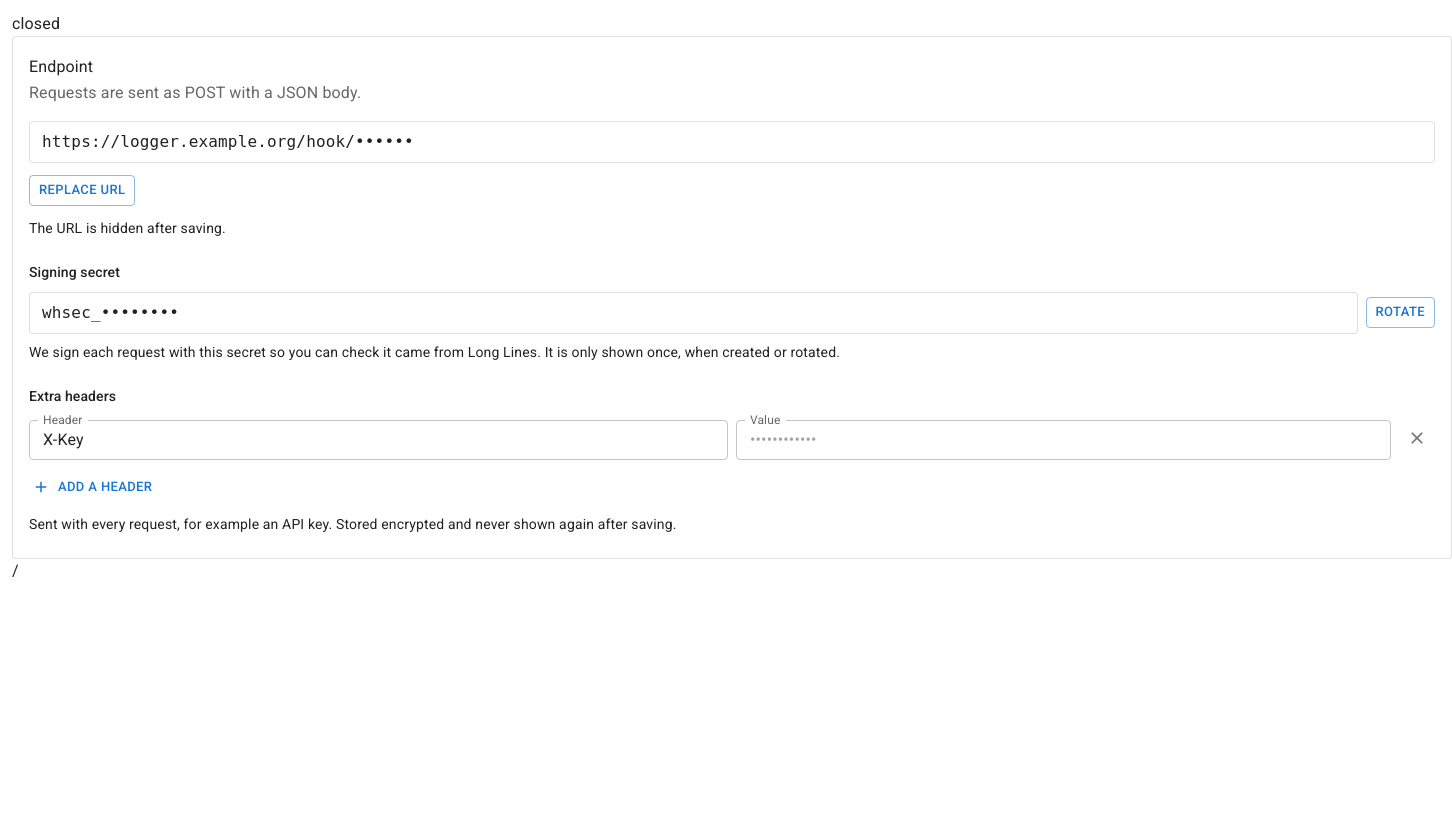
Test: extra headers › shows a saved value masked, keeps it unless typed, and wants one when renamed
This screenshot has width=1452, height=822.
Expected: the field labelled "Value" is empty, [736,420,1391,460]
Expected: the text "header a value" is not shown
Clear the field labelled "Header": (378, 440) [29,420,728,460]
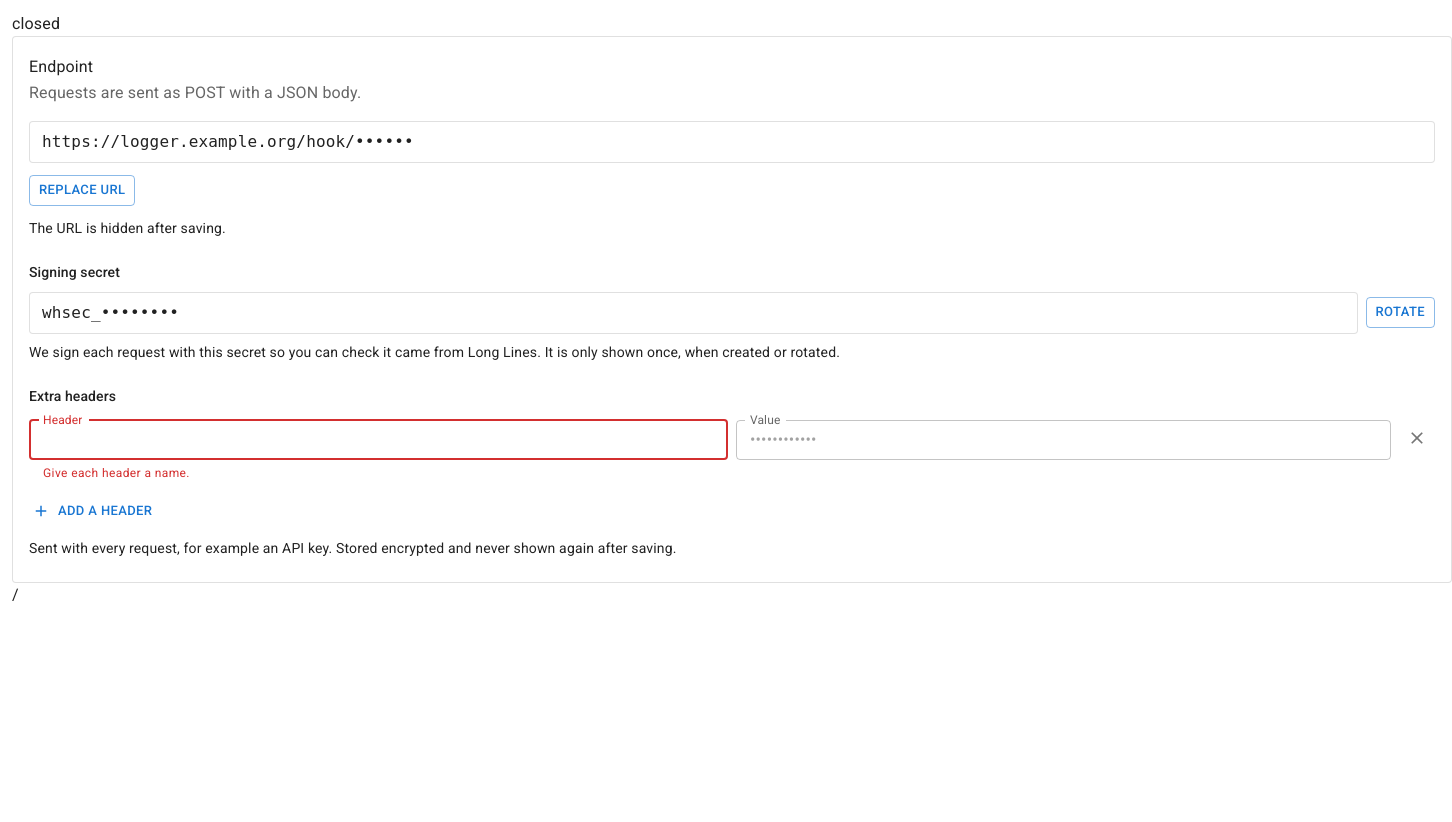
Expected: the text "Give each header a name." is shown, [43,466,190,480]
In the field labelled "Header": (378, 440) [29,420,728,460], type "x-key"
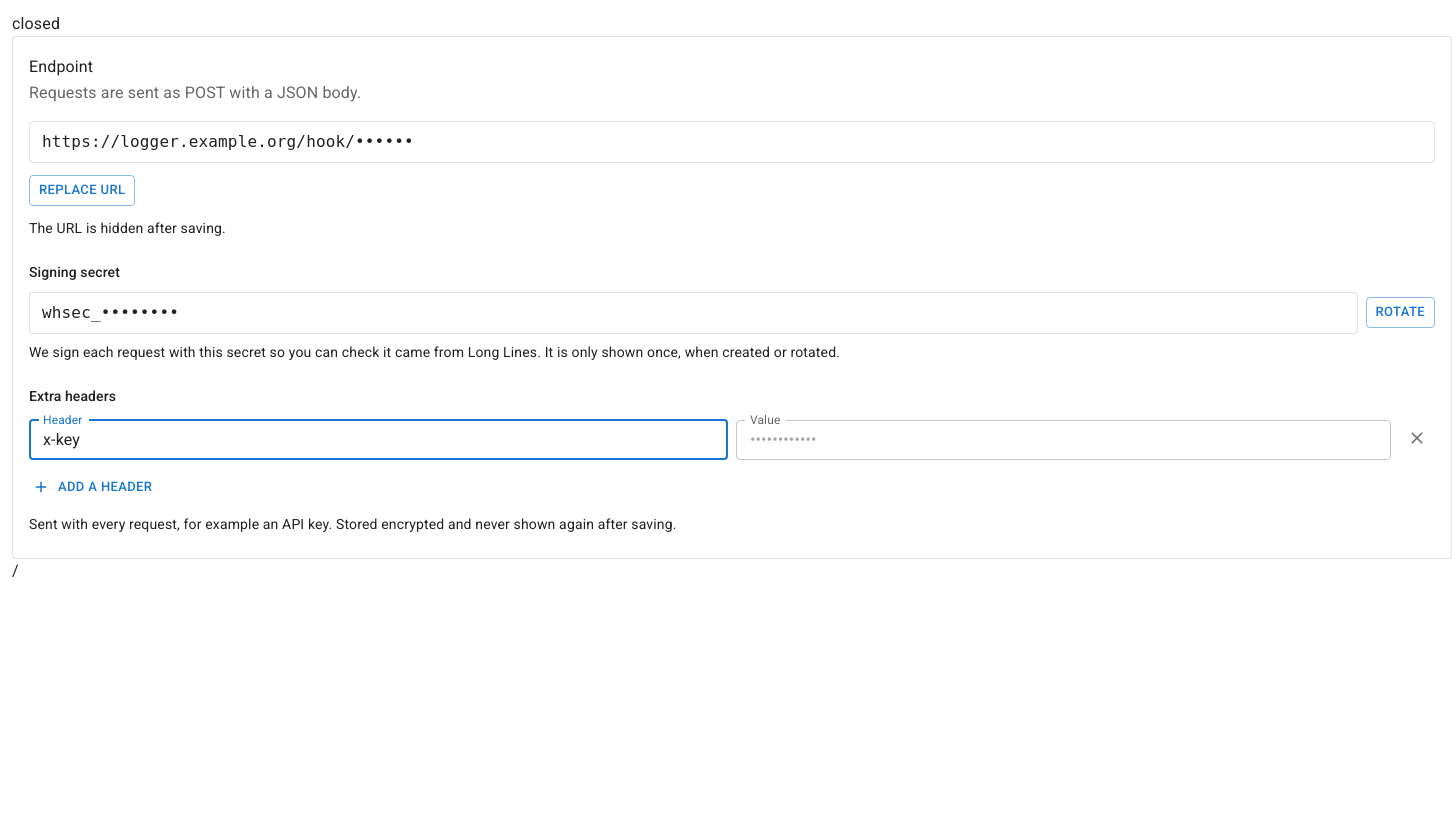
Expected: the text "header a value" is not shown
In the field labelled "Header": (378, 440) [29,420,728,460], type "2"
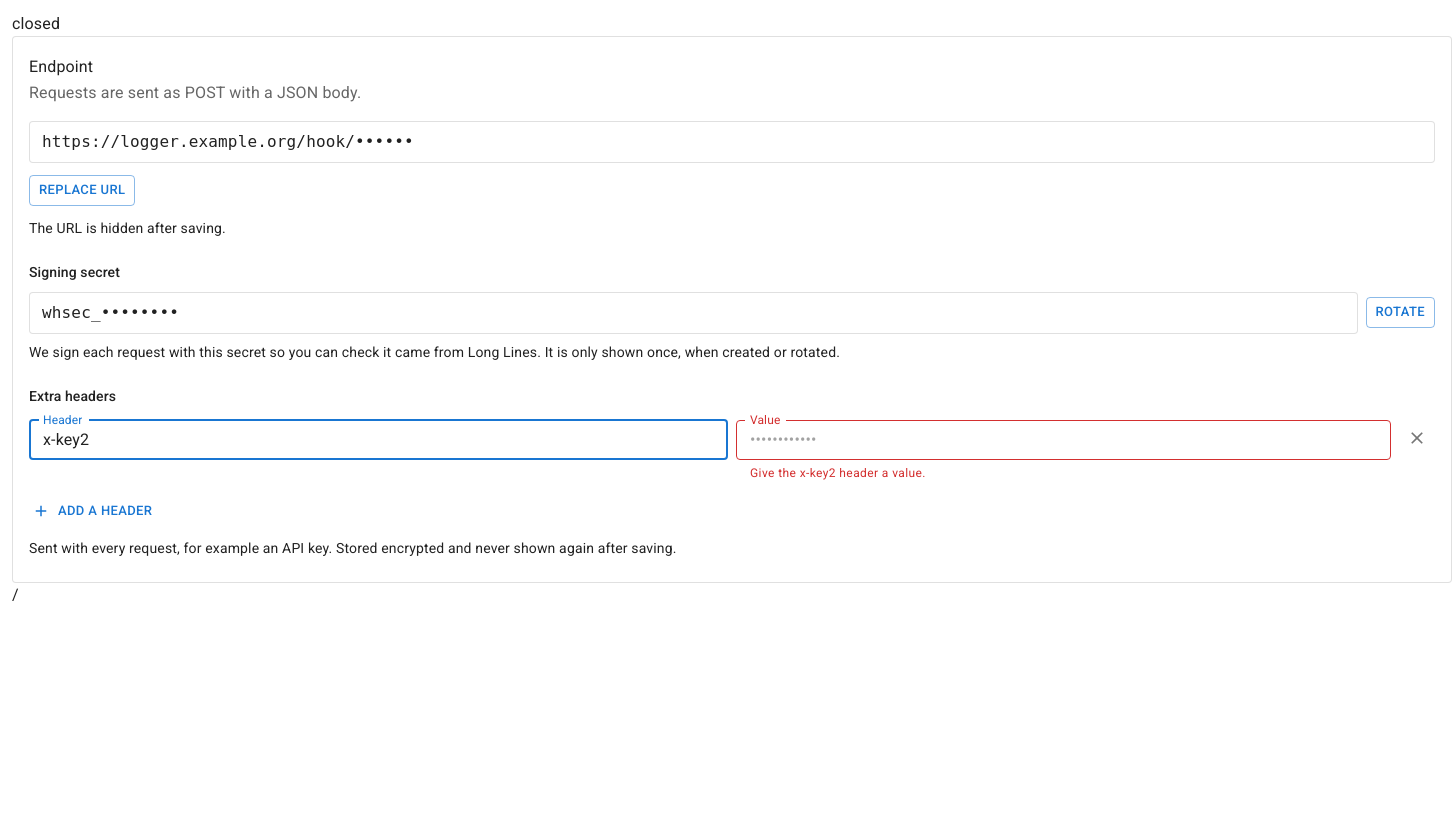
Expected: the text "Give the x-key2 header a value." is shown, [750,466,926,480]
